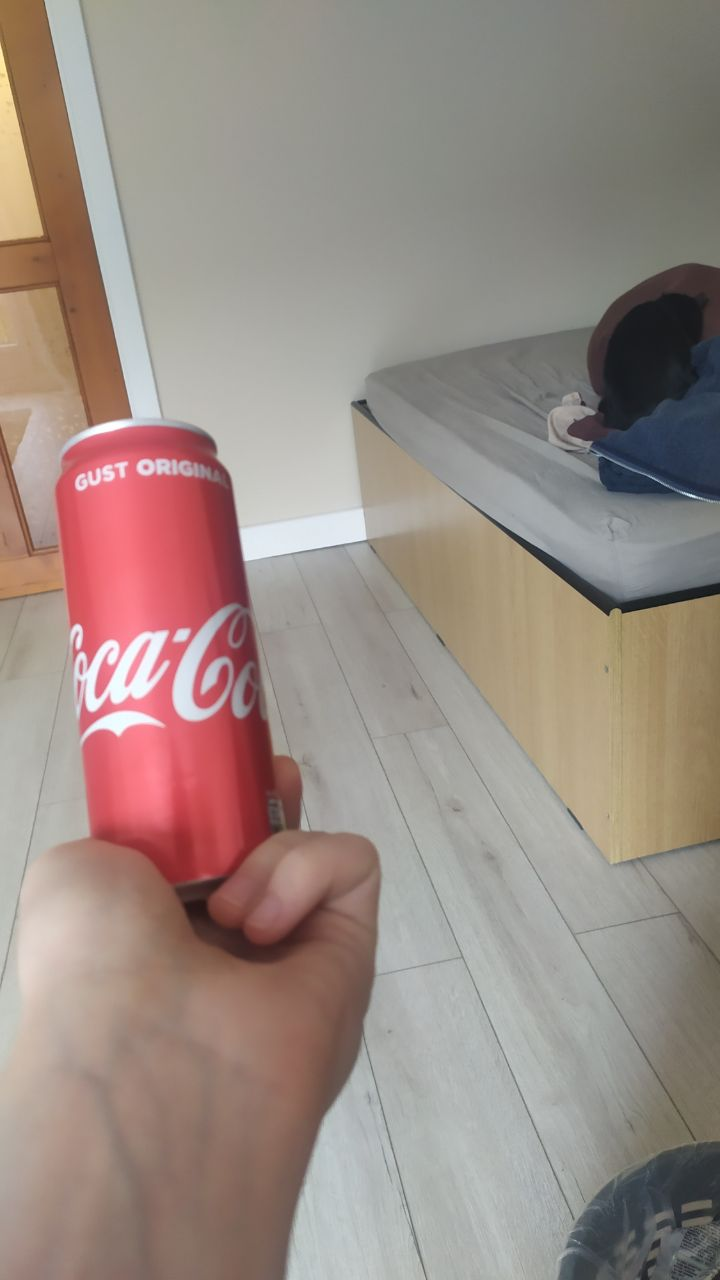Can: (49, 419, 289, 908)
